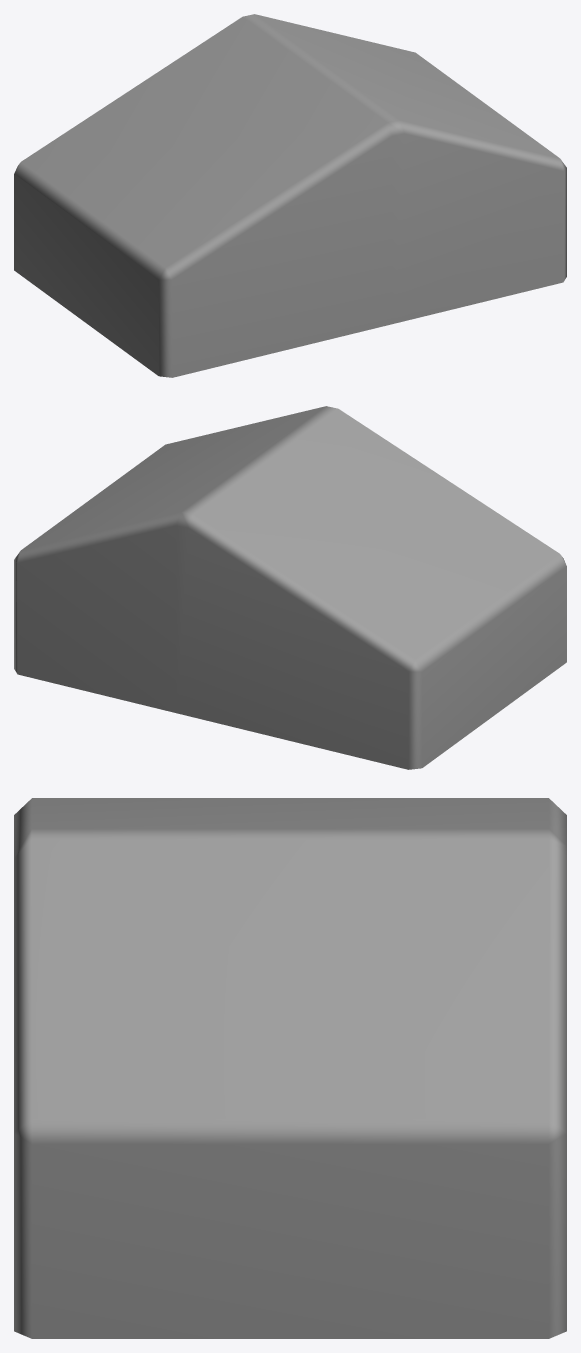
Rendered from Farm_11_Stone_3.glb.
The picture shows the model from 3 angles, top to bottom: view 1: azimuth 30°, elevation 25°; view 2: azimuth 150°, elevation 25°; view 3: azimuth 270°, elevation 25°; orthographic projection. The views are drawn at different scales.
Visible parts, largest first — view 1: Farm_11_Stone_3; view 2: Farm_11_Stone_3; view 3: Farm_11_Stone_3.
Boxes of the visible parts, x1,y1,x2,y2 form: Farm_11_Stone_3: (14, 14, 566, 377); Farm_11_Stone_3: (14, 406, 566, 769); Farm_11_Stone_3: (14, 798, 566, 1338).
Size of the model in its own units: 0.8234 by 0.3814 by 0.5408.
1 material, 1 textured.
